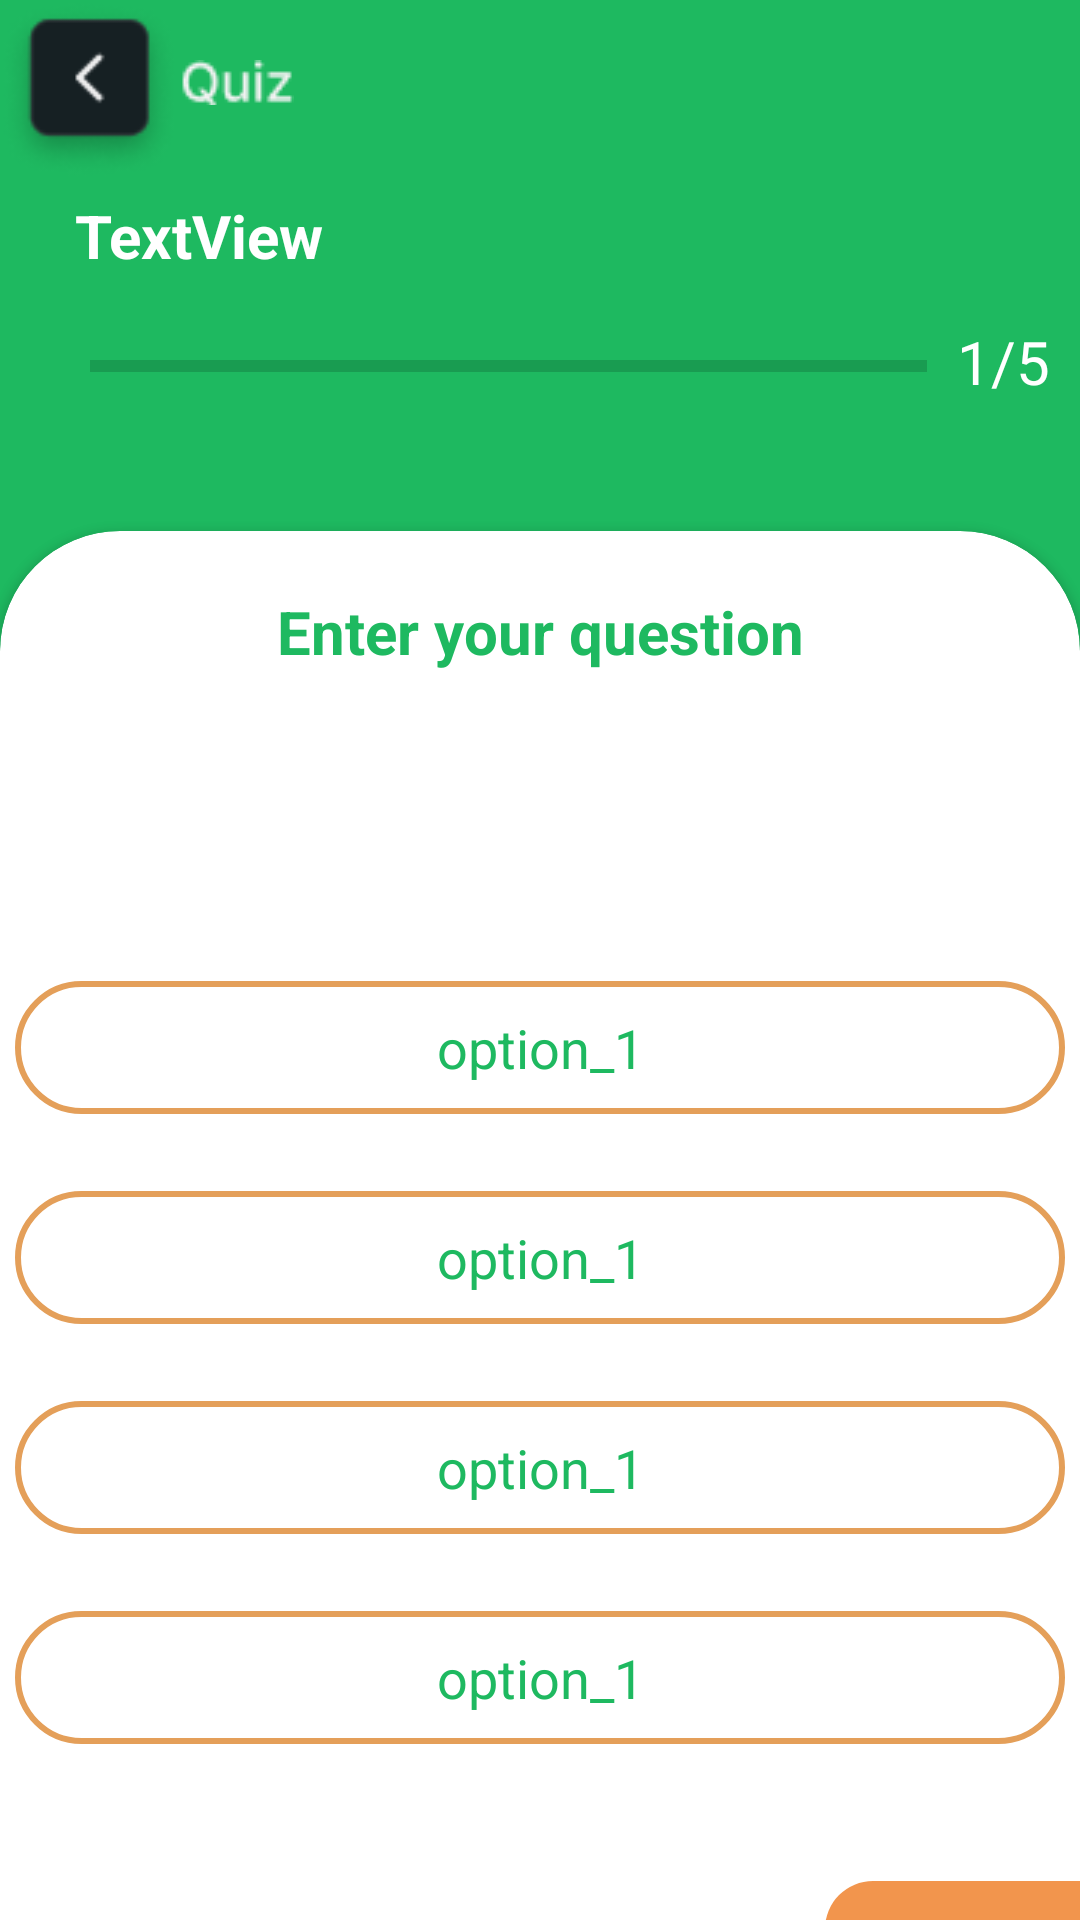

Point at icon controls on the screen. Image size 1080x1920, points as [x,y].
back: [88,82]
